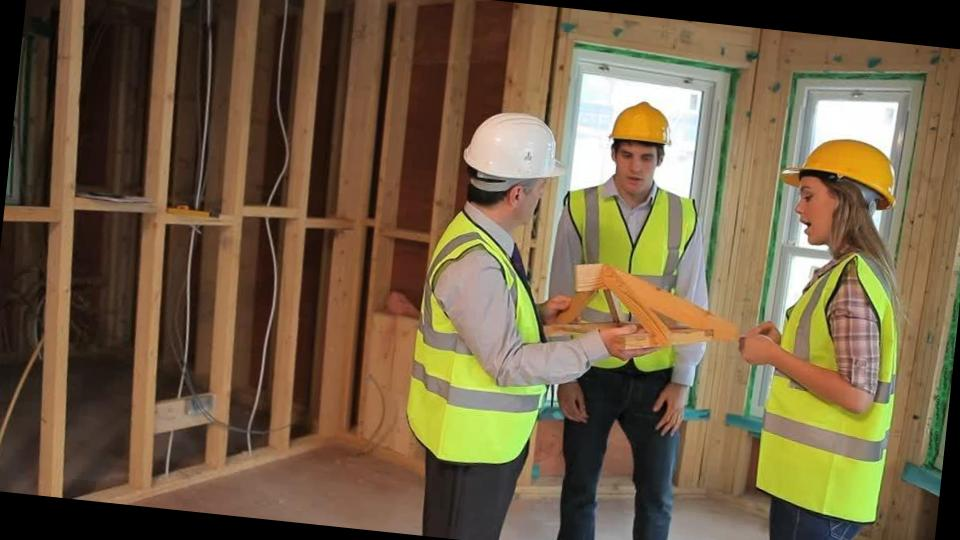Vest: (752, 240, 914, 528), (398, 197, 567, 472), (544, 176, 708, 388)
